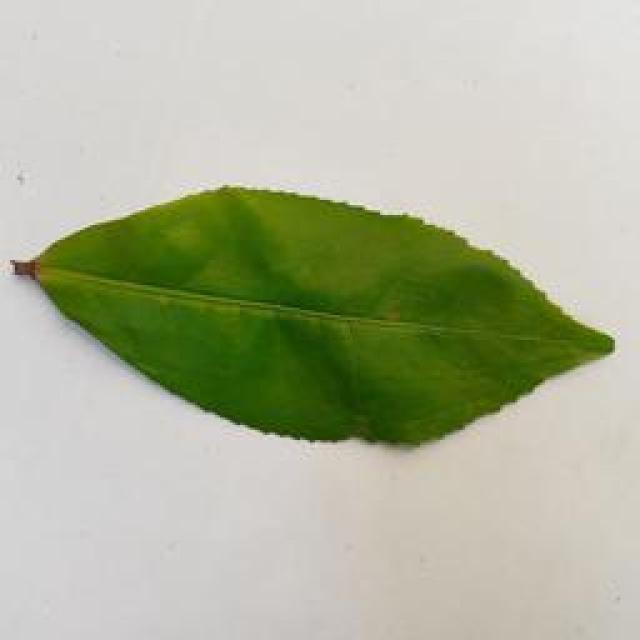Healthy: (12, 181, 615, 451)
